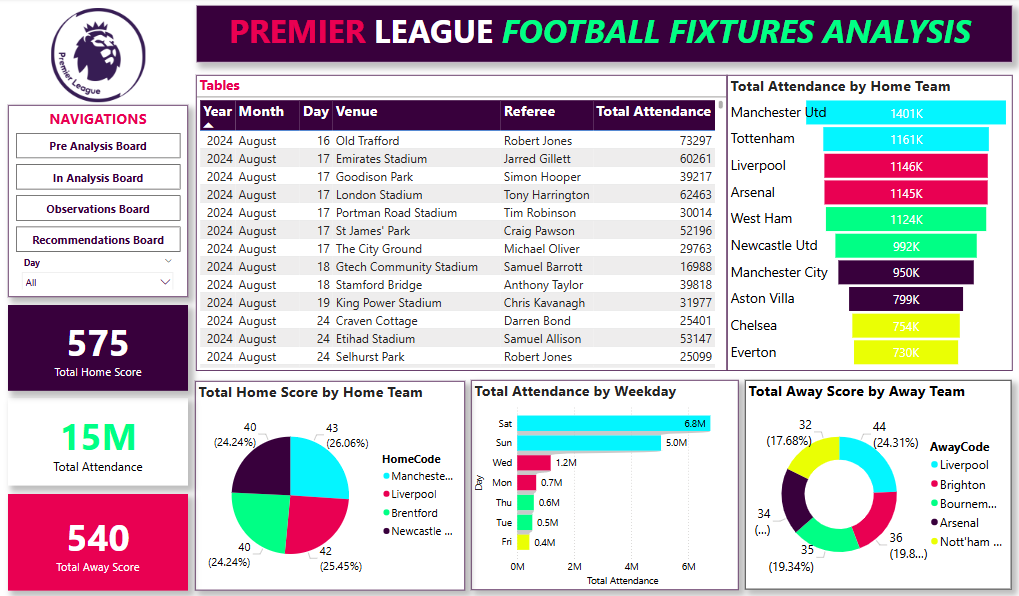

This screenshot's page, from the dashboard's own definition file:
{"tool":"powerbi","page":{"name":"Main Dashboard","canvas":[1700,1000],"ordinal":0},"visuals":[{"type":"barChart","title":"Total Attendance by Weekday","fields":{"Category":["fixtures.Day"],"Y":["fixtures.Total Attendance"]},"box":[785.2,638.9,446.3,350],"z":0},{"type":"funnel","title":"Total Attendance by Home Team","fields":{"Category":["fixtures.Home","fixtures.Venue"],"Y":["fixtures.Total Attendance"]},"box":[1211.1,129.6,475.9,492.6],"z":1000},{"type":"donutChart","title":"Total Away Score by Away Team","fields":{"Category":["fixtures.Away"],"Y":["fixtures.Total Away Score"]},"box":[1242.4,639,444.1,349.2],"z":2000},{"type":"pieChart","title":"Total Home Score by Home Team","fields":{"Category":["fixtures.Home"],"Y":["fixtures.Total Home Score"]},"box":[325.4,639.8,449.7,349.1],"z":3000},{"type":"card","fields":{"Values":["fixtures.Total Attendance"]},"box":[12.8,669,299.8,146.2],"z":4000},{"type":"card","fields":{"Values":["fixtures.Total Away Score"]},"box":[12.8,828.1,299.8,160.9],"z":5000},{"type":"card","fields":{"Values":["fixtures.Total Home Score"]},"box":[13,513,300,142.6],"z":6000},{"type":"textbox","box":[13,179.6,300,320.4],"z":7000},{"type":"textbox","box":[325.9,13,1361.1,96.3],"z":8000},{"type":"image","box":[13,13,300,166.7],"z":9000},{"type":"slicer","fields":{"Values":["fixtures.Day"]},"box":[25.9,425.9,272.2,61.1],"z":10000},{"type":"tableEx","title":"Tables","fields":{"Values":["fixtures.Date.Variation.Date Hierarchy.Year","fixtures.Date.Variation.Date Hierarchy.Month","fixtures.Date.Variation.Date Hierarchy.Day","fixtures.Venue","fixtures.Referee","fixtures.Total Attendance"]},"box":[325.9,129.6,885.2,492.6],"z":11000},{"type":"pageNavigator","box":[25.9,225.9,274.1,200],"z":12000}]}

Visuals, with their boxes in screenshot pixels (x1, y1, x2, y2), scaled from the page's 1700x1000 canvas onto the 1019x596 screenshot:
"Total Attendance by Weekday" barChart: region(471, 381, 738, 589)
"Total Attendance by Home Team" funnel: region(726, 77, 1011, 371)
"Total Away Score by Away Team" donutChart: region(745, 381, 1011, 589)
"Total Home Score by Home Team" pieChart: region(195, 381, 465, 589)
card - fixtures.Total Attendance: region(8, 399, 187, 486)
card - fixtures.Total Away Score: region(8, 494, 187, 589)
card - fixtures.Total Home Score: region(8, 306, 188, 391)
textbox: region(8, 107, 188, 298)
textbox: region(195, 8, 1011, 65)
image: region(8, 8, 188, 107)
slicer - fixtures.Day: region(16, 254, 179, 290)
"Tables" tableEx: region(195, 77, 726, 371)
pageNavigator: region(16, 135, 180, 254)
